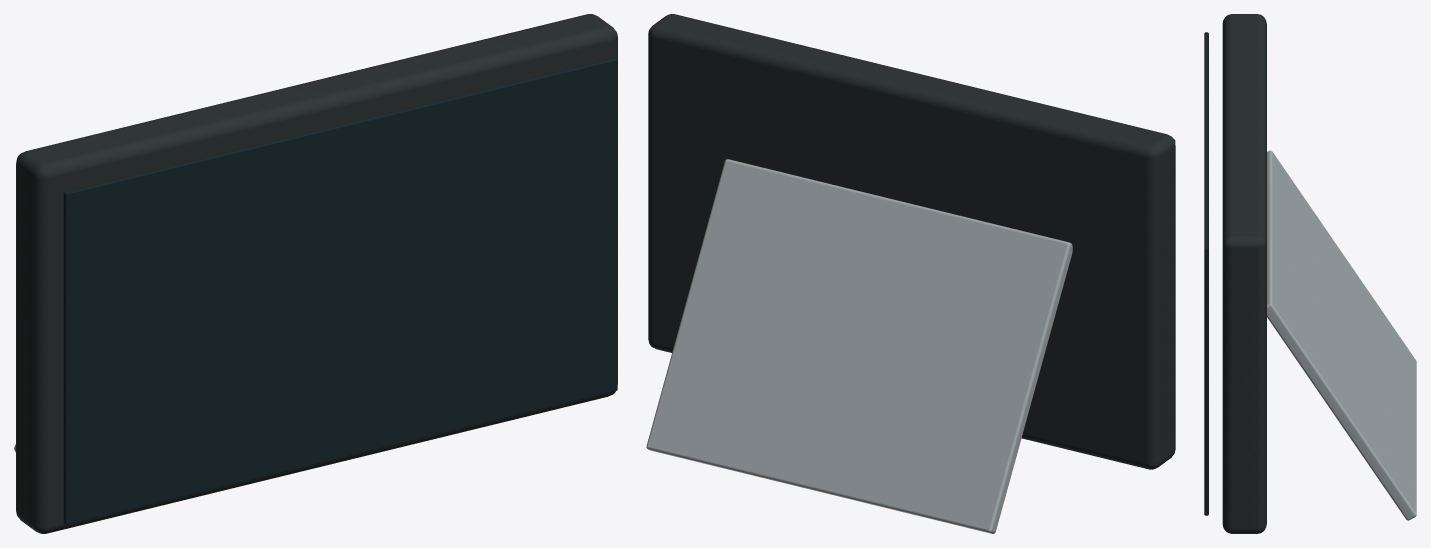
File: pantalla_gps.glb
3 views of the same model, side by side, from view 1: azimuth 30°, elevation 25°; view 2: azimuth 150°, elevation 25°; view 3: azimuth 270°, elevation 25° (orthographic). The views are drawn at different scales.
Visible parts, largest first — view 1: Display glass, Display enclosure; view 2: Hinged kickstand, Display enclosure; view 3: Hinged kickstand, Display enclosure, Display glass.
Boxes of the visible parts, bbox=[...] form: Display glass: bbox=[63, 57, 617, 524]; Display enclosure: bbox=[16, 14, 617, 533]; Hinged kickstand: bbox=[646, 159, 1072, 533]; Display enclosure: bbox=[648, 14, 1175, 469]; Hinged kickstand: bbox=[1267, 150, 1416, 520]; Display enclosure: bbox=[1222, 14, 1266, 533]; Display glass: bbox=[1204, 32, 1208, 515].
Size of the model in its own units: 0.355 by 0.2304 by 0.1392.
3 materials, 3 textured.
